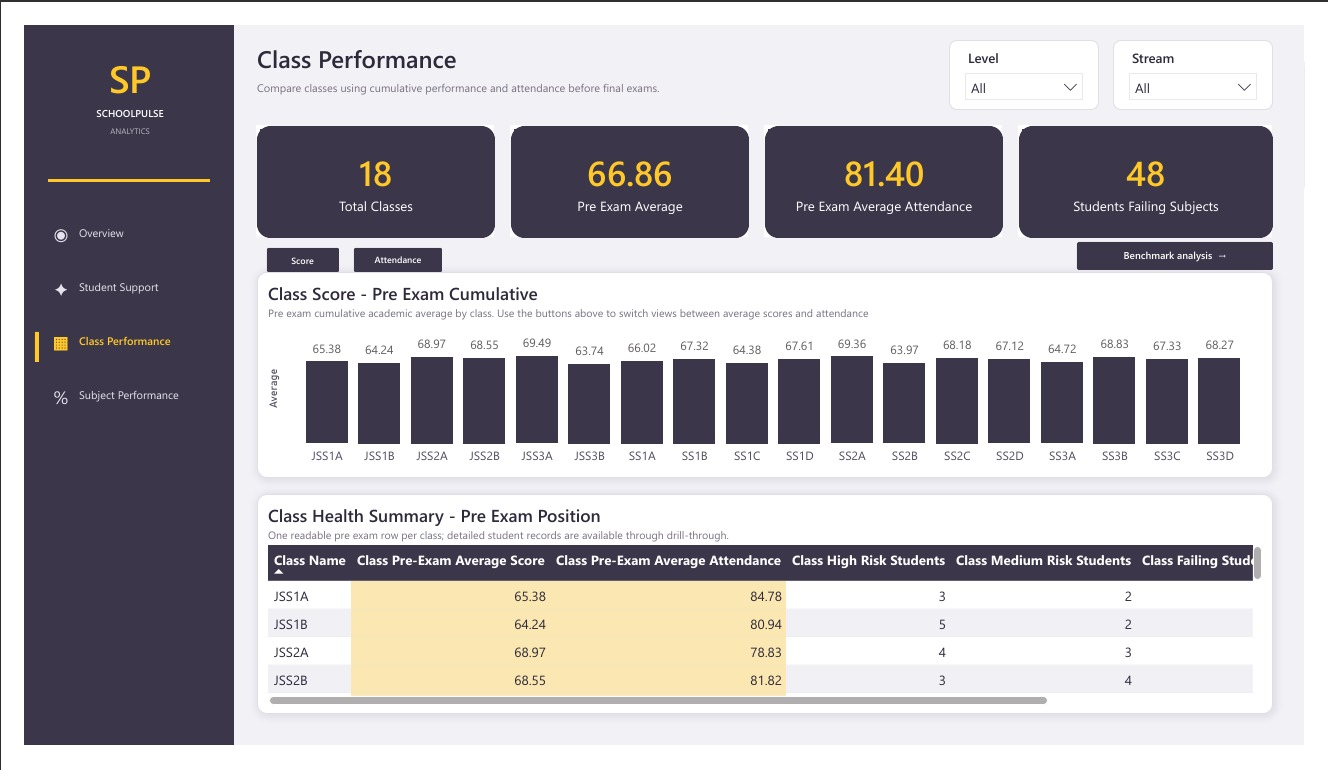

The page's visual inventory and layout, read from the dashboard file:
{"tool":"powerbi","page":{"name":"Class Performance","canvas":[1280,720],"ordinal":2},"visuals":[{"type":"shape","box":[0,0,210,720],"z":0},{"type":"textbox","box":[28,26,154,108],"z":1000},{"type":"shape","box":[24,154,162,3],"z":2000},{"type":"shape","box":[10,306,4,30],"z":3000},{"type":"textbox","box":[22,359,28,30],"z":4000},{"type":"textbox","box":[22,197,28,30],"z":5000},{"type":"textbox","box":[22,305,28,30],"z":6000},{"type":"textbox","box":[22,251,28,30],"z":7000},{"type":"textbox","box":[54,359,142,30],"z":9000},{"type":"textbox","box":[54,305,142,30],"z":10000},{"type":"textbox","box":[54,197,142,30],"z":11000},{"type":"textbox","box":[54,251,142,30],"z":12000},{"type":"actionButton","box":[14,190,182,46],"z":14000},{"type":"actionButton","box":[14,244,182,46],"z":15000},{"type":"actionButton","box":[14,298,182,46],"z":16000},{"type":"actionButton","box":[14,352,182,46],"z":17000},{"type":"textbox","box":[232,16,560,34],"z":19000},{"type":"textbox","box":[232,52,650,30],"z":20000},{"type":"slicer","fields":{"Values":["Student Overview.Level Name"]},"box":[924,14,150,70],"z":21000},{"type":"slicer","fields":{"Values":["Student Overview.Academic Stream"]},"box":[1088,14,160,70],"z":22000},{"type":"shape","box":[232,100,238,112],"z":23000},{"type":"shape","box":[486,100,238,112],"z":24000},{"type":"cardVisual","fields":{"Data":["Student Overview.Pre-Exam Class Count"]},"box":[232,100,238,112],"z":25000},{"type":"cardVisual","fields":{"Data":["Student Overview.Pre-Exam Average Score"]},"box":[486,100,238,112],"z":26000},{"type":"shape","box":[740,100,238,112],"z":27000},{"type":"cardVisual","fields":{"Data":["Student Overview.Pre-Exam Average Attendance"]},"box":[740,100,238,112],"z":28000},{"type":"shape","box":[994,100,254,112],"z":29000},{"type":"cardVisual","fields":{"Data":["Student Overview.Pre-Exam Failing Students"]},"box":[994,100,254,112],"z":30000},{"type":"clusteredColumnChart","title":"Class Score - Pre Exam Cumulative","fields":{"Category":["Student Overview.Class Name"],"Y":["Student Overview.Class Pre-Exam Average Score"]},"box":[232,246,1016,206],"z":31000},{"type":"tableEx","title":"Class Health Summary - Pre Exam Position","fields":{"Values":["Pre-Exam Student Snapshot.Class Name","Student Overview.Class Pre-Exam Average Score","Student Overview.Class Pre-Exam Average Attendance","Student Overview.Class High Risk Students","Student Overview.Class Medium Risk Students","Student Overview.Class Failing Students","Student Overview.Class Students Requiring Attention"]},"box":[232,468,1016,220],"z":33000},{"type":"shape","box":[241.5,221.7,72.5,24.2],"z":61000},{"type":"textbox","box":[241.5,224.3,71.6,19.8],"z":61001},{"type":"actionButton","box":[241.5,221.7,72.5,24.2],"z":61002},{"type":"shape","box":[328.6,221.7,88,24.2],"z":61010},{"type":"textbox","box":[328.6,223.4,88,19.8],"z":61011},{"type":"actionButton","box":[328.6,220.8,88,24.2],"z":61012},{"type":"shape","box":[1052,216,196,28],"z":73000},{"type":"textbox","box":[1052,219,196,22],"z":73001},{"type":"actionButton","box":[1052,216,196,28],"z":73002}]}

Visuals, with their boxes on the page's 1280x720 design canvas (x1, y1, x2, y2). These are canvas units, not pixel positions in the 1328x770 screenshot, which may show the page scaled, cropped or inside an application window:
shape: {"x1": 0, "y1": 0, "x2": 210, "y2": 720}
textbox: {"x1": 28, "y1": 26, "x2": 182, "y2": 134}
shape: {"x1": 24, "y1": 154, "x2": 186, "y2": 157}
shape: {"x1": 10, "y1": 306, "x2": 14, "y2": 336}
textbox: {"x1": 22, "y1": 359, "x2": 50, "y2": 389}
textbox: {"x1": 22, "y1": 197, "x2": 50, "y2": 227}
textbox: {"x1": 22, "y1": 305, "x2": 50, "y2": 335}
textbox: {"x1": 22, "y1": 251, "x2": 50, "y2": 281}
textbox: {"x1": 54, "y1": 359, "x2": 196, "y2": 389}
textbox: {"x1": 54, "y1": 305, "x2": 196, "y2": 335}
textbox: {"x1": 54, "y1": 197, "x2": 196, "y2": 227}
textbox: {"x1": 54, "y1": 251, "x2": 196, "y2": 281}
actionButton: {"x1": 14, "y1": 190, "x2": 196, "y2": 236}
actionButton: {"x1": 14, "y1": 244, "x2": 196, "y2": 290}
actionButton: {"x1": 14, "y1": 298, "x2": 196, "y2": 344}
actionButton: {"x1": 14, "y1": 352, "x2": 196, "y2": 398}
textbox: {"x1": 232, "y1": 16, "x2": 792, "y2": 50}
textbox: {"x1": 232, "y1": 52, "x2": 882, "y2": 82}
slicer - Student Overview.Level Name: {"x1": 924, "y1": 14, "x2": 1074, "y2": 84}
slicer - Student Overview.Academic Stream: {"x1": 1088, "y1": 14, "x2": 1248, "y2": 84}
shape: {"x1": 232, "y1": 100, "x2": 470, "y2": 212}
shape: {"x1": 486, "y1": 100, "x2": 724, "y2": 212}
cardVisual - Student Overview.Pre-Exam Class Count: {"x1": 232, "y1": 100, "x2": 470, "y2": 212}
cardVisual - Student Overview.Pre-Exam Average Score: {"x1": 486, "y1": 100, "x2": 724, "y2": 212}
shape: {"x1": 740, "y1": 100, "x2": 978, "y2": 212}
cardVisual - Student Overview.Pre-Exam Average Attendance: {"x1": 740, "y1": 100, "x2": 978, "y2": 212}
shape: {"x1": 994, "y1": 100, "x2": 1248, "y2": 212}
cardVisual - Student Overview.Pre-Exam Failing Students: {"x1": 994, "y1": 100, "x2": 1248, "y2": 212}
"Class Score - Pre Exam Cumulative" clusteredColumnChart: {"x1": 232, "y1": 246, "x2": 1248, "y2": 452}
"Class Health Summary - Pre Exam Position" tableEx: {"x1": 232, "y1": 468, "x2": 1248, "y2": 688}
shape: {"x1": 242, "y1": 222, "x2": 314, "y2": 246}
textbox: {"x1": 242, "y1": 224, "x2": 313, "y2": 244}
actionButton: {"x1": 242, "y1": 222, "x2": 314, "y2": 246}
shape: {"x1": 329, "y1": 222, "x2": 417, "y2": 246}
textbox: {"x1": 329, "y1": 223, "x2": 417, "y2": 243}
actionButton: {"x1": 329, "y1": 221, "x2": 417, "y2": 245}
shape: {"x1": 1052, "y1": 216, "x2": 1248, "y2": 244}
textbox: {"x1": 1052, "y1": 219, "x2": 1248, "y2": 241}
actionButton: {"x1": 1052, "y1": 216, "x2": 1248, "y2": 244}
